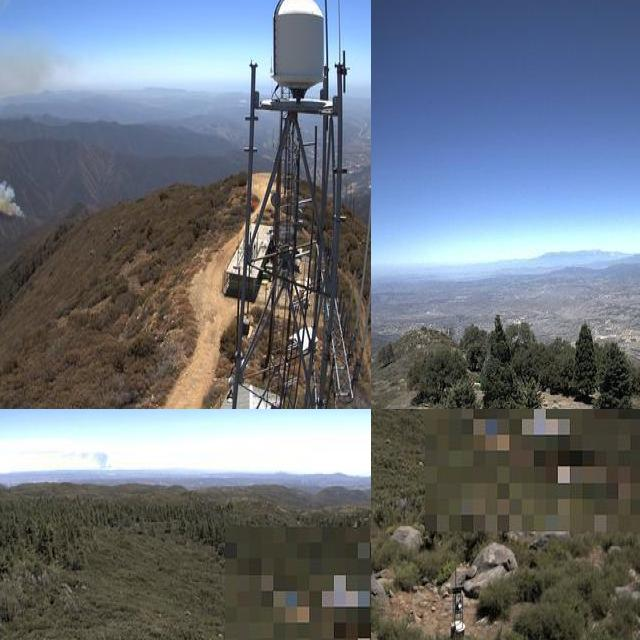smoke: (71, 446, 109, 473)
